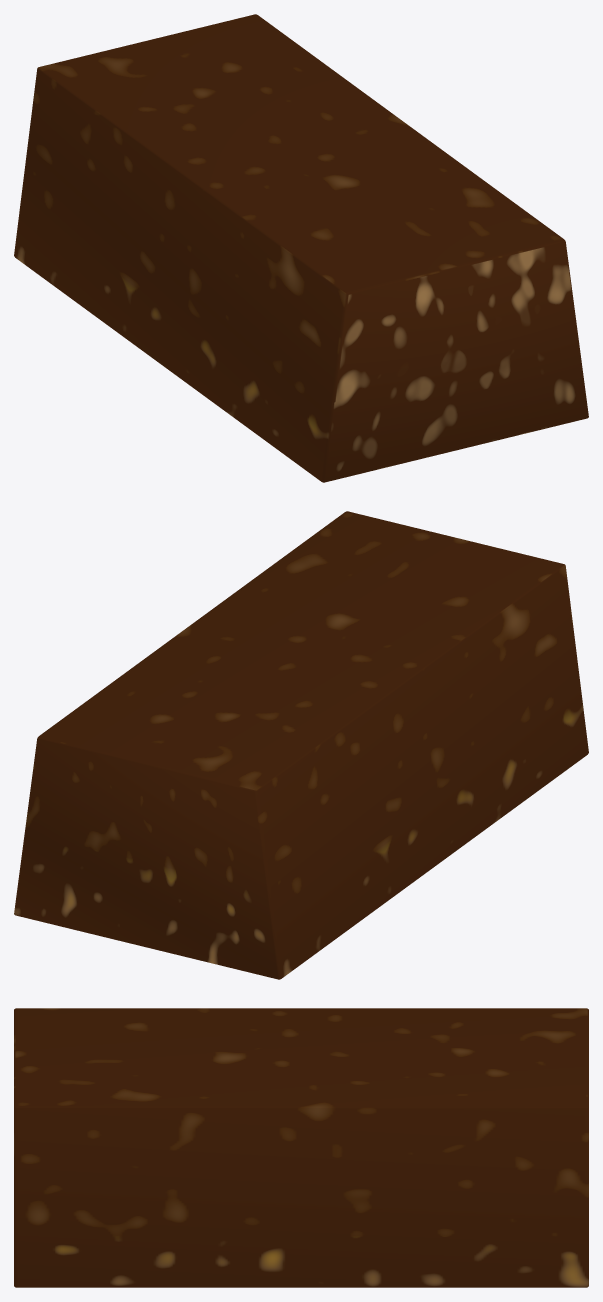
File: BlokCzekolady.gltf
The picture shows the model from 3 angles, top to bottom: view 1: azimuth 30°, elevation 25°; view 2: azimuth 150°, elevation 25°; view 3: azimuth 270°, elevation 25°; orthographic projection. The views are drawn at different scales.
Parts seen in each view (by area): view 1: Cube.011; view 2: Cube.011; view 3: Cube.011.
Boxes of the visible parts, x1=… form: Cube.011: x1=14, y1=14, x2=588, y2=482; Cube.011: x1=14, y1=511, x2=588, y2=979; Cube.011: x1=14, y1=1008, x2=588, y2=1287.
Bounding box in the file's own units: 0.7086 × 0.4673 × 1.43.
Materials: 3 (2 with a texture image).
